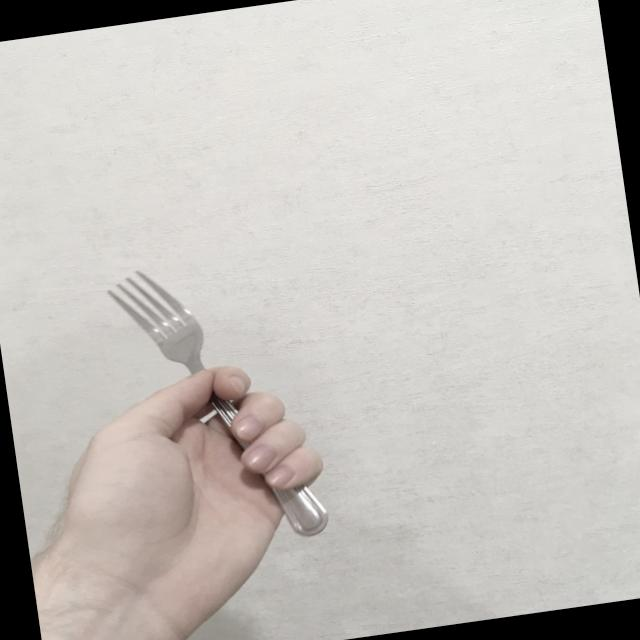fork: (105, 249, 333, 560)
